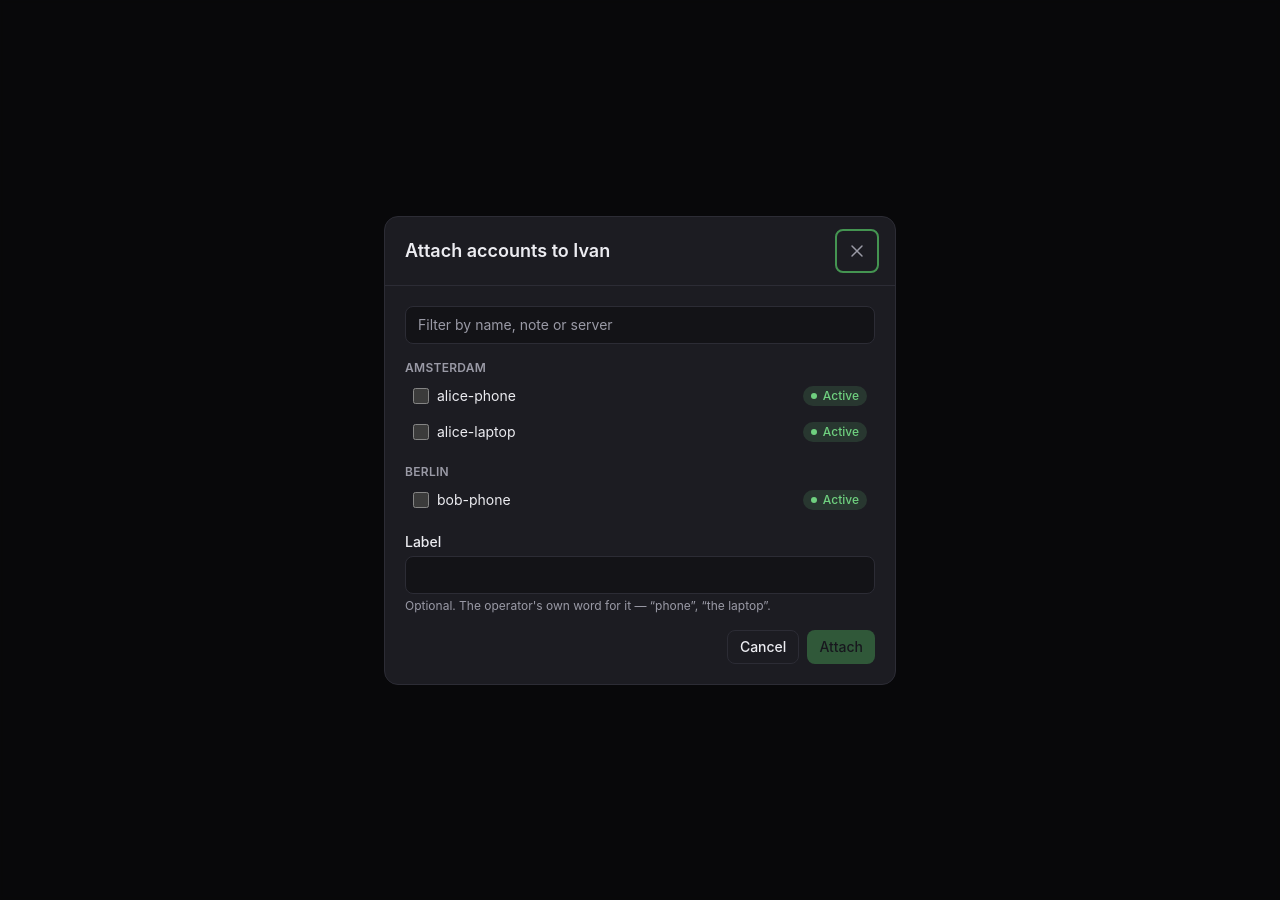
Scenario: AttachEntryDialog › hides the label field once more than one is selected
Expected: the text "alice-phone" is shown, [437, 386, 516, 404]
Click the checkbox labelled "alice-phone Active": (421, 396) [413, 388, 429, 404]
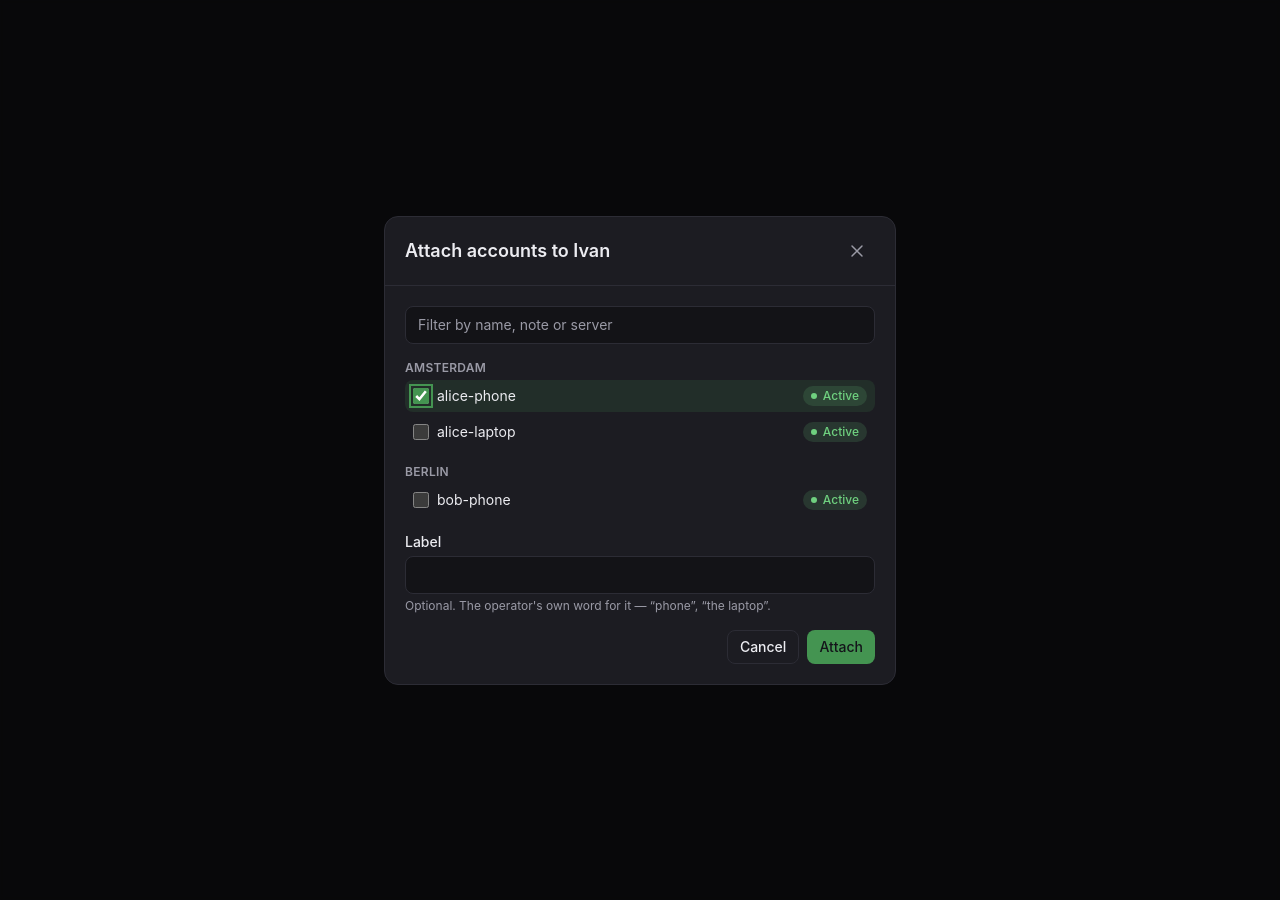
Expected: the field labelled "Label" is shown, [405, 556, 875, 594]
Click the checkbox labelled "alice-laptop Active": (421, 432) [413, 424, 429, 440]
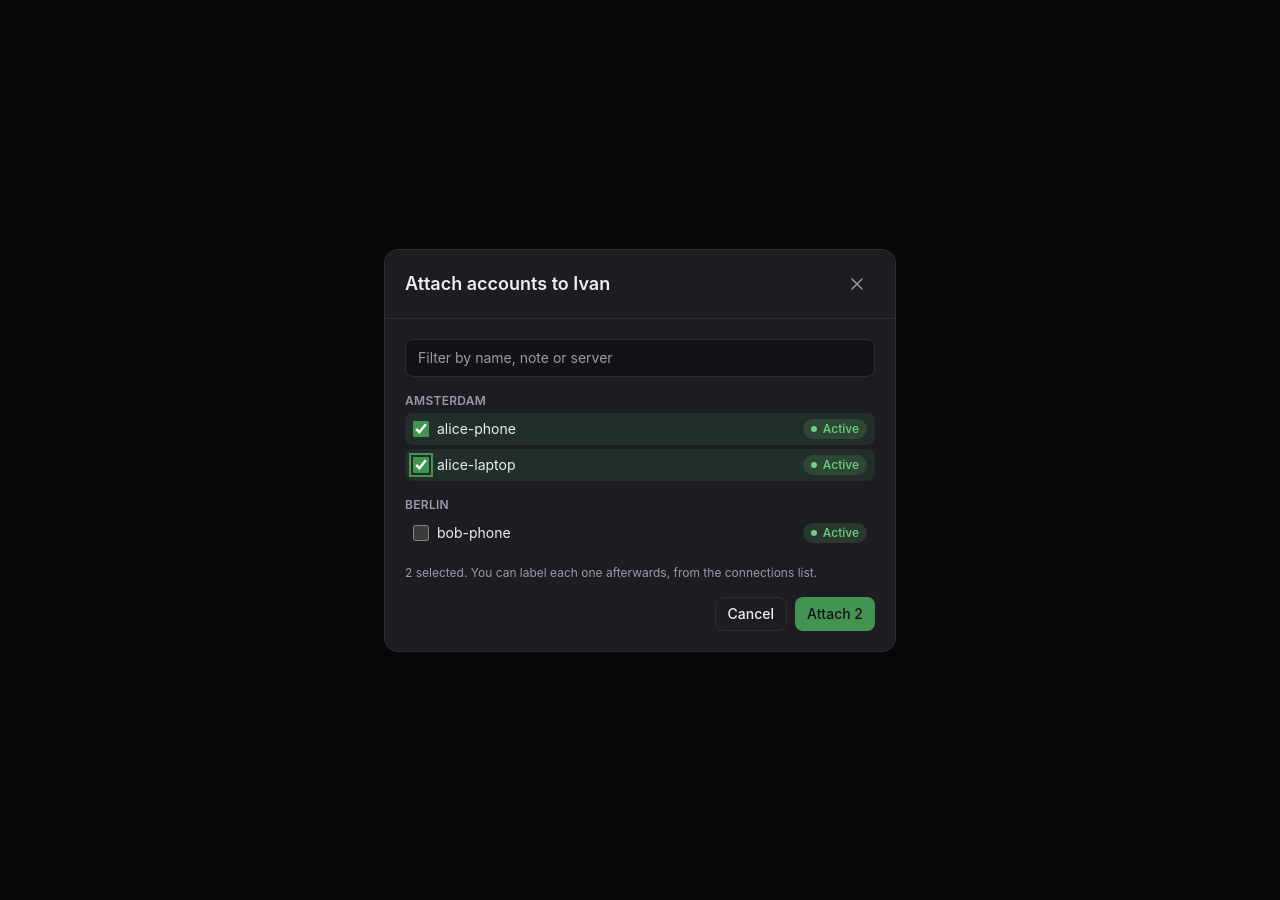
Expected: the text "2 selected" is shown, [405, 564, 875, 580]
